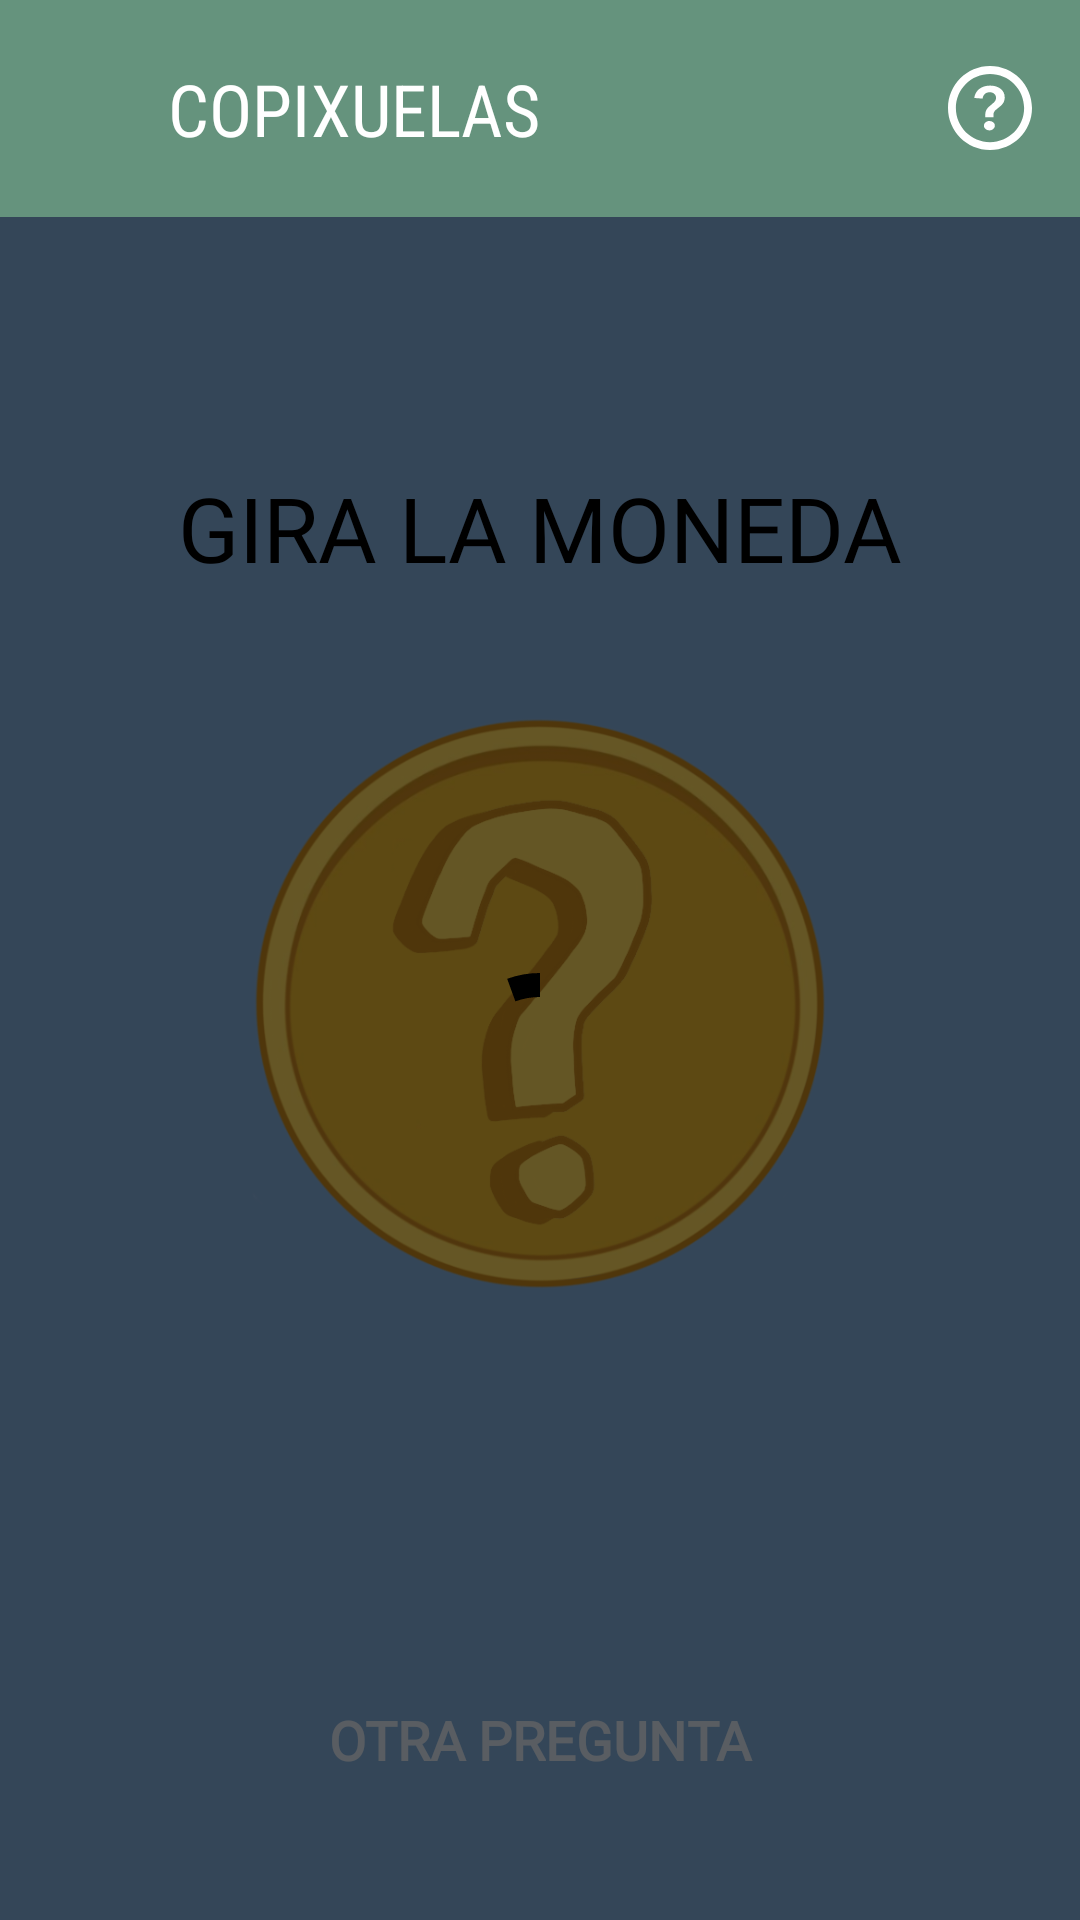

Icon bounding boxes for this 1080x1920 phone screenshot, format [left=x1, top=y1, right=x2, bottom=y2]:
question: [left=948, top=66, right=1032, bottom=150]
